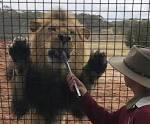lion: (11, 13, 106, 124)
